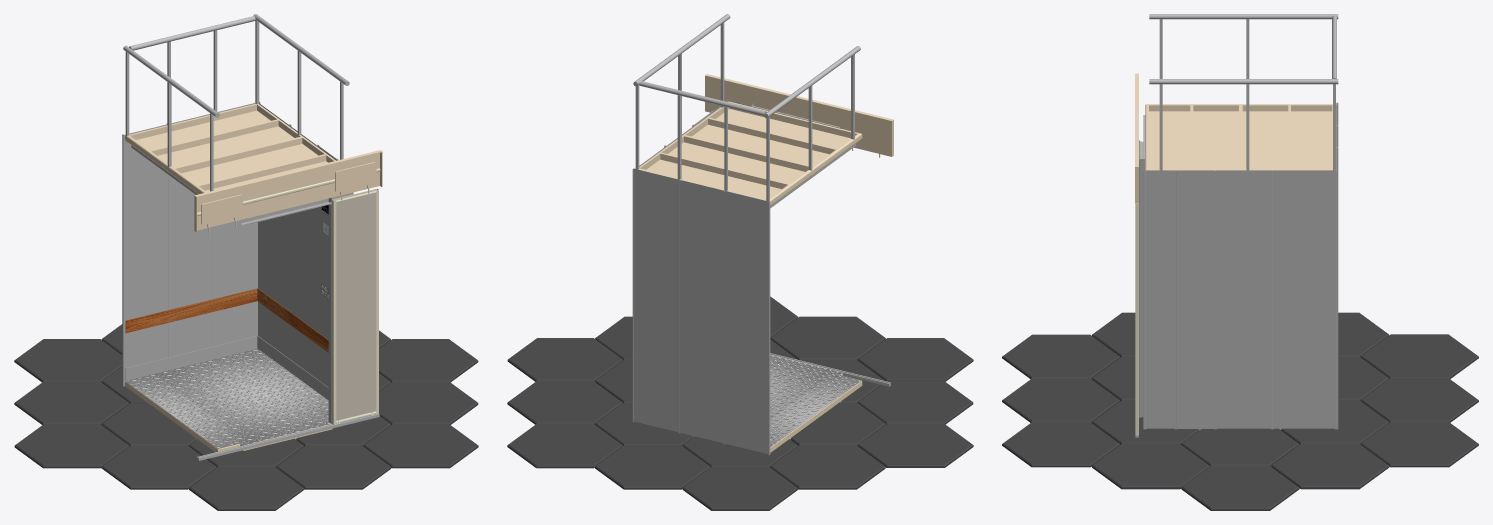
The model's file is tke_lot15_service_lift.glb.
3 views of the same model, side by side, from view 1: azimuth 30°, elevation 25°; view 2: azimuth 150°, elevation 25°; view 3: azimuth 270°, elevation 25° (orthographic). The views are drawn at different scales.
Visible parts, largest first — view 1: NaPol.001_18, Cylinder.004_32, Cylinder.003_31, Stvorki.003_21, Potolok.001_10, Cylinder.002_30, PanelZad1.001_5, PanelZad2.002_4, PanelZad2.003_19, Golova.001_13, Cylinder.001_29, PanelBok2.002_0 (+16 smaller); view 2: PanelZad2.003_19, PanelZad1.001_5, Cylinder_28, Cylinder.001_29, Potolok.001_10, PanelZad2.002_4, Cylinder.002_30, Cylinder.004_32, Cylinder.003_31, Golova.001_13, NaPol.001_18, Stoyki.001_8 (+3 smaller); view 3: PanelBok3.002_2, PanelBok2.002_0, Potolok.001_10, Cylinder.004_32, Cylinder_28, PanelBok1.005_24, Cylinder.001_29, Cylinder.003_31, PanelBok1.003_1, Cylinder.002_30, Ograjdenie.002_9, PlanePered.002_6 (+3 smaller).
Boxes of the visible parts, box(x1,y1,x2,y2) form: NaPol.001_18: box(125, 348, 330, 448); Cylinder.004_32: box(189, 424, 478, 510); Cylinder.003_31: box(101, 381, 478, 489); Stvorki.003_21: box(332, 188, 378, 424); Potolok.001_10: box(125, 103, 335, 194); Cylinder.002_30: box(14, 339, 478, 468); PanelZad1.001_5: box(122, 123, 168, 386); PanelZad2.002_4: box(168, 114, 212, 357); PanelZad2.003_19: box(212, 103, 257, 346); Golova.001_13: box(194, 150, 382, 232); Cylinder.001_29: box(14, 330, 390, 424); PanelBok2.002_0: box(289, 124, 317, 378); PanelZad2.003_19: box(632, 168, 679, 433); PanelZad1.001_5: box(724, 191, 770, 455); Cylinder_28: box(507, 423, 798, 510); Cylinder.001_29: box(507, 381, 885, 489); Potolok.001_10: box(638, 101, 862, 205); PanelZad2.002_4: box(679, 180, 724, 444); Cylinder.002_30: box(507, 338, 973, 467); Cylinder.004_32: box(770, 296, 973, 381); Cylinder.003_31: box(595, 316, 973, 424); Golova.001_13: box(705, 74, 893, 156); NaPol.001_18: box(770, 355, 861, 447); Stoyki.001_8: box(635, 22, 854, 201); PanelBok3.002_2: box(1272, 170, 1336, 429); PanelBok2.002_0: box(1215, 170, 1272, 429); Potolok.001_10: box(1145, 104, 1336, 170); Cylinder.004_32: box(1002, 334, 1120, 467); Cylinder_28: box(1360, 334, 1478, 467); PanelBok1.005_24: box(1176, 170, 1215, 430); Cylinder.001_29: box(1271, 312, 1389, 489); Cylinder.003_31: box(1092, 312, 1209, 489); PanelBok1.003_1: box(1145, 170, 1175, 429); Cylinder.002_30: box(1181, 428, 1299, 510); Ograjdenie.002_9: box(1149, 14, 1338, 84); PlanePered.002_6: box(1139, 159, 1145, 429).
Size of the model in its own units: 5.41 by 4.07 by 5.
15 materials, 4 textured.
